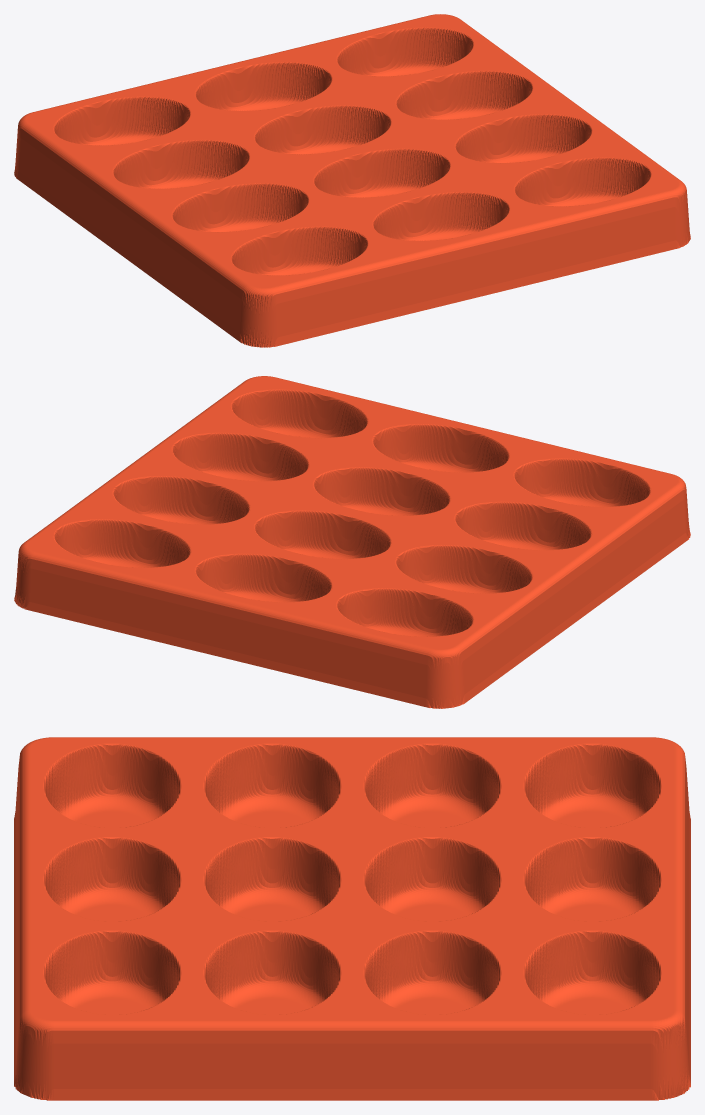
The model's file is mold.glb.
3 renders of one model, top to bottom at view 1: azimuth 30°, elevation 25°; view 2: azimuth 150°, elevation 25°; view 3: azimuth 270°, elevation 25°, orthographic. The views are drawn at different scales.
Parts seen in each view (by area): view 1: geometry_0; view 2: geometry_0; view 3: geometry_0.
Boxes of the visible parts, x1,y1,x2,y2 form: geometry_0: (14, 14, 690, 347); geometry_0: (14, 376, 690, 708); geometry_0: (14, 737, 690, 1100).
Size of the model in its own units: 0.1598 by 0.0185 by 0.1545.
